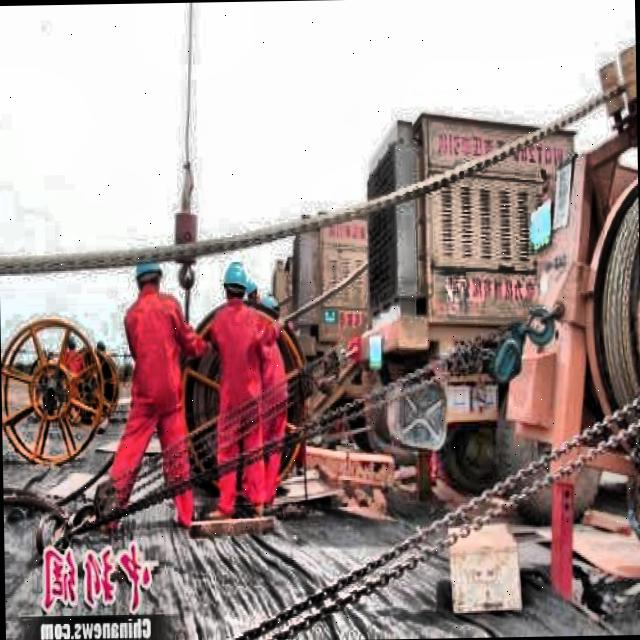helmet: (216, 258, 256, 312), (136, 252, 163, 298)
